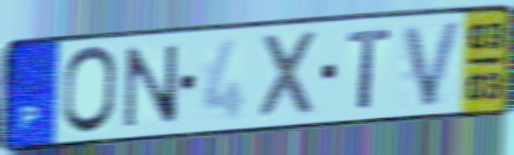4: (198, 34, 250, 124)
N: (122, 42, 182, 131)
O: (59, 43, 120, 138)
T: (345, 26, 395, 112)
V: (400, 17, 467, 111)
X: (258, 27, 322, 124)
